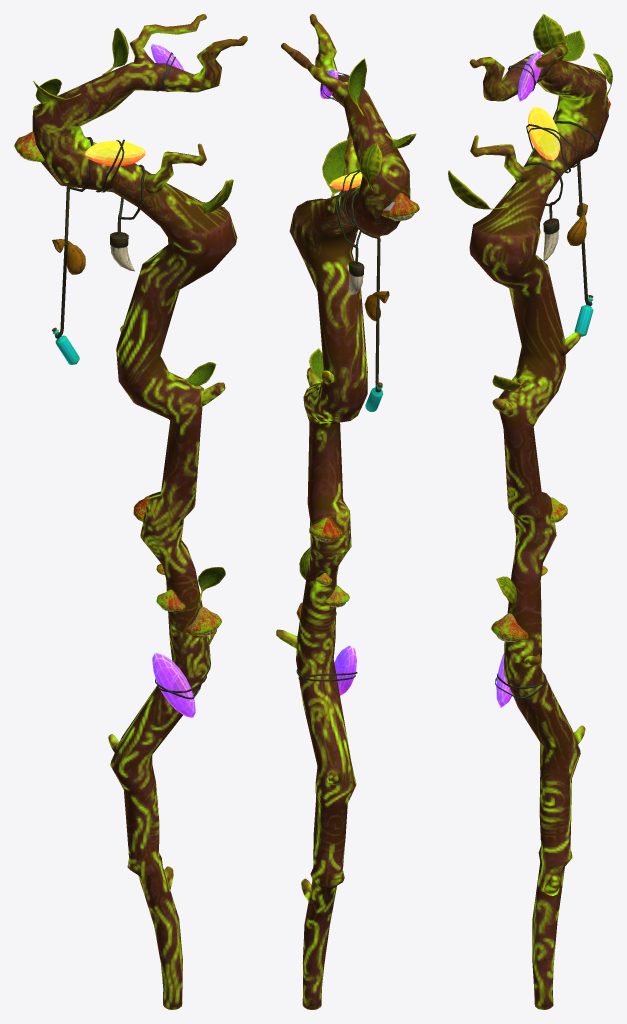
File: magic_staff.glb
The picture shows the model from 3 angles, left to right: view 1: azimuth 30°, elevation 25°; view 2: azimuth 150°, elevation 25°; view 3: azimuth 270°, elevation 25°; orthographic projection. The views are drawn at different scales.
Visible parts, largest first — view 1: wooden, organic, artefacts, snurky; view 2: wooden, organic, artefacts, snurky; view 3: wooden, organic, artefacts, snurky.
Boxes of the visible parts, bbox=[...] form: wooden: bbox=[32, 14, 247, 1009]; organic: bbox=[14, 28, 233, 636]; artefacts: bbox=[52, 44, 195, 717]; snurky: bbox=[55, 52, 206, 699]; wooden: bbox=[276, 14, 410, 1009]; organic: bbox=[296, 58, 419, 620]; artefacts: bbox=[320, 69, 389, 695]; snurky: bbox=[296, 71, 381, 681]; wooden: bbox=[469, 44, 608, 1009]; organic: bbox=[448, 14, 612, 641]; artefacts: bbox=[496, 50, 593, 707]; snurky: bbox=[495, 63, 598, 699].
Bounding box in the file's own units: 75.63 × 415 × 64.13.
4 materials, 4 textured.
